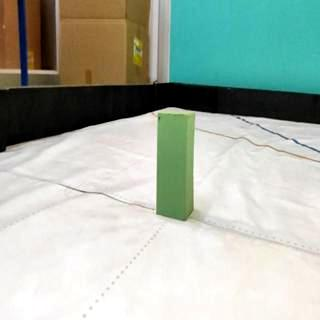greenbox: (156, 111, 197, 221)
